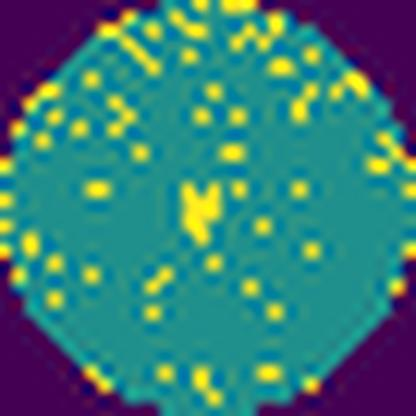Center: (176, 174, 228, 249)
